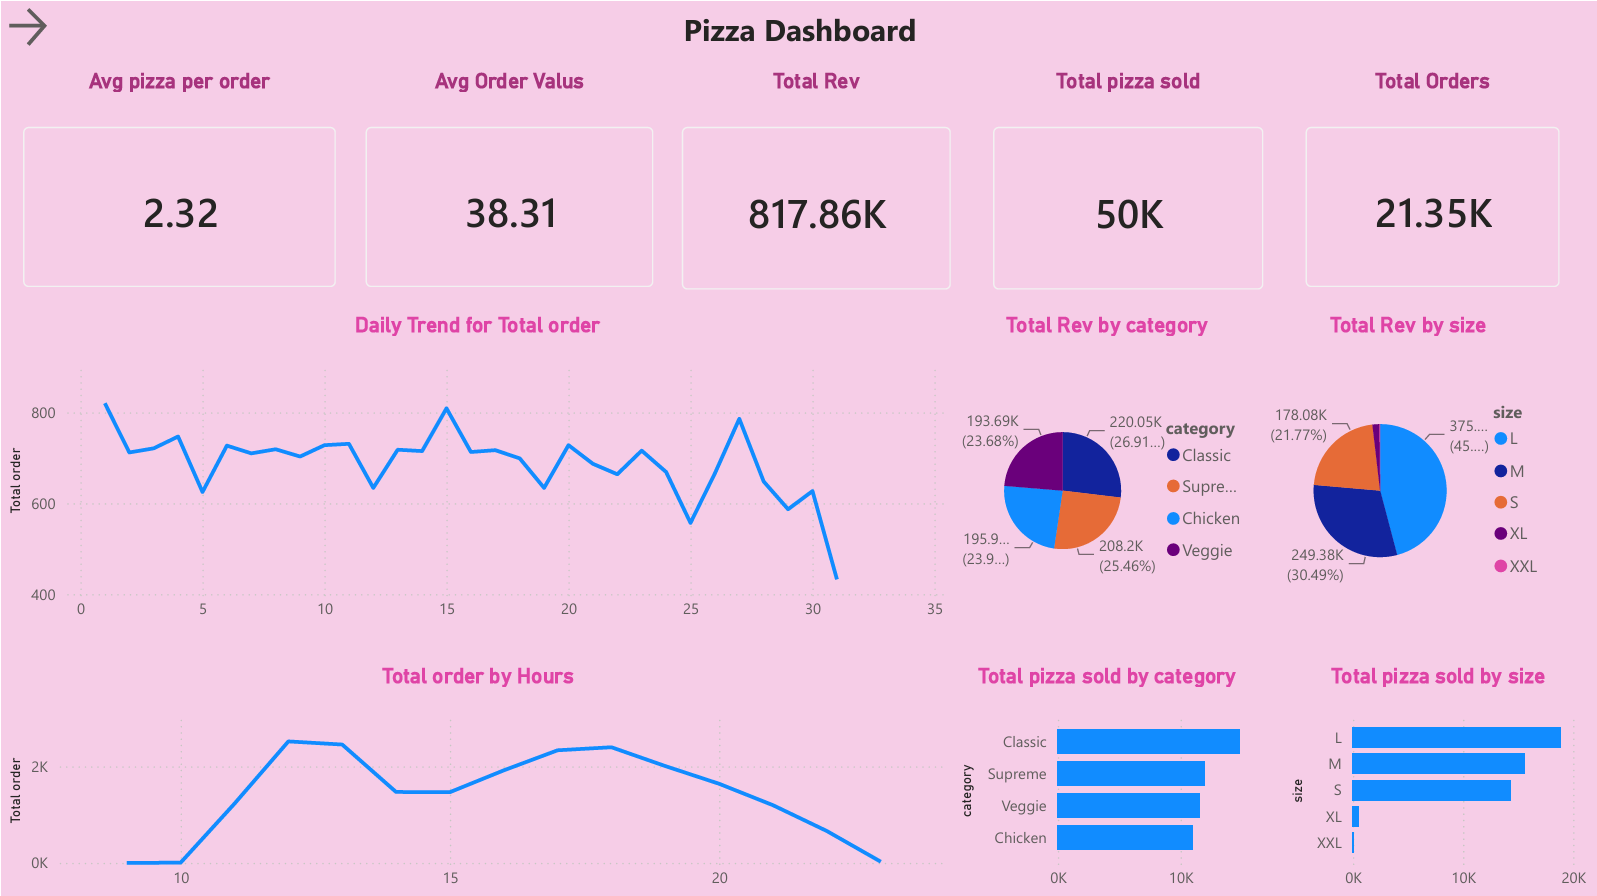

Layout of this report page (visuals, bound fields, positions):
{"tool":"powerbi","page":{"name":"Main Dash","canvas":[1280,720],"ordinal":0},"visuals":[{"type":"cardVisual","title":"Total Orders","fields":{"Data":["CountNonNull(orders.order_id)"]},"box":[1025.6,52.5,237.4,193.9],"z":0},{"type":"cardVisual","title":"Total pizza sold","fields":{"Data":["order_details.Total pizza sold"]},"box":[775.5,52.5,250.1,195.7],"z":1000},{"type":"cardVisual","title":"Total Rev","fields":{"Data":["Sum(order_details.sales)"]},"box":[527.3,52.5,248.2,195.7],"z":2000},{"type":"cardVisual","title":"Avg Order Valus","fields":{"Data":["order_details.Avg order value"]},"box":[273.6,52.5,264.6,193.9],"z":3000},{"type":"cardVisual","title":"Avg pizza per order","fields":{"Data":["order_details.per order"]},"box":[0,52.5,284.5,193.9],"z":4000},{"type":"lineChart","title":"Daily Trend for Total order","fields":{"Category":["orders.Day"],"Y":["order_details.Total order"]},"box":[0,248.2,761.1,255.5],"z":5000},{"type":"lineChart","fields":{"Category":["orders.Hours"],"Y":["order_details.Total order"]},"box":[0,529.1,761.1,190.3],"z":6000},{"type":"pieChart","fields":{"Y":["order_details.Total Rev"],"Category":["pizza_types.category"]},"box":[761.1,248.2,246.4,255.5],"z":7000},{"type":"pieChart","fields":{"Y":["order_details.Total Rev"],"Category":["pizzas.size"]},"box":[1007.5,248.2,235.6,255.5],"z":8000},{"type":"barChart","fields":{"Category":["pizza_types.category"],"Y":["order_details.Total pizza sold"]},"box":[761.1,529.1,246,190],"z":9000},{"type":"barChart","fields":{"Y":["order_details.Total pizza sold"],"Category":["pizzas.size"]},"box":[1025.6,529.1,246,190],"z":10000},{"type":"textbox","box":[529.1,0,219.3,52.5],"z":10001},{"type":"actionButton","box":[0,0,100,40],"z":10002}]}

Visuals, with their boxes in screenshot pixels (x1, y1, x2, y2), scaled from the page's 1280x720 canvas onto the 1597x896 screenshot:
"Total Orders" cardVisual: locate(1280, 65, 1576, 307)
"Total pizza sold" cardVisual: locate(968, 65, 1280, 309)
"Total Rev" cardVisual: locate(658, 65, 968, 309)
"Avg Order Valus" cardVisual: locate(341, 65, 671, 307)
"Avg pizza per order" cardVisual: locate(0, 65, 355, 307)
"Daily Trend for Total order" lineChart: locate(0, 309, 950, 627)
lineChart - orders.Hours x order_details.Total order: locate(0, 658, 950, 895)
pieChart - order_details.Total Rev x pizza_types.category: locate(950, 309, 1257, 627)
pieChart - order_details.Total Rev x pizzas.size: locate(1257, 309, 1551, 627)
barChart - pizza_types.category x order_details.Total pizza sold: locate(950, 658, 1257, 895)
barChart - order_details.Total pizza sold x pizzas.size: locate(1280, 658, 1587, 895)
textbox: locate(660, 0, 934, 65)
actionButton: locate(0, 0, 125, 50)
